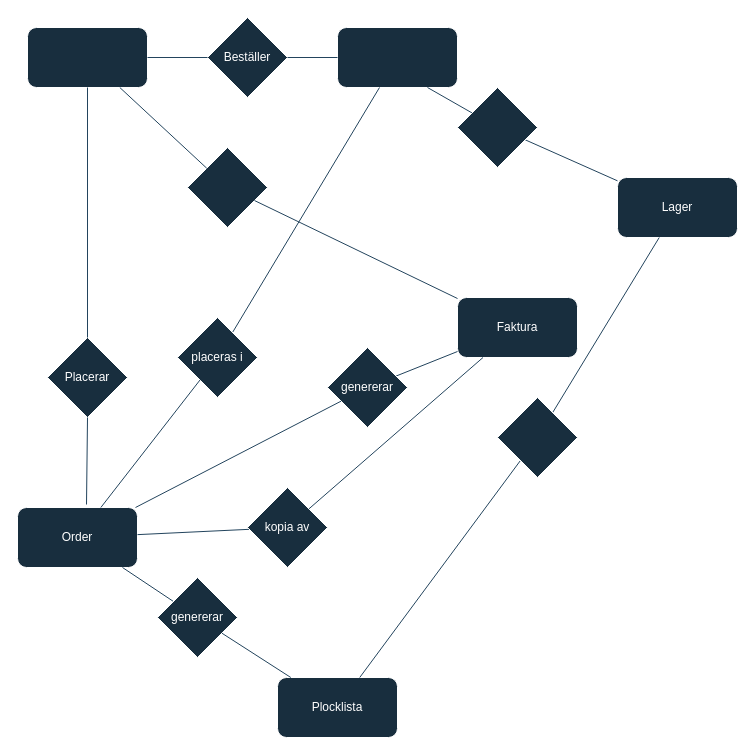
The diagram is 755 pixels wide and 755 high, and some of its shapes have lost their labels. The centre of each missing label's shape, as x and y in pixels:
"betalar" goes at point (227, 187).
"finns på" goes at point (497, 127).
"får en" goes at point (537, 437).
"Kund" goes at point (87, 57).
"Produkt" goes at point (397, 57).
